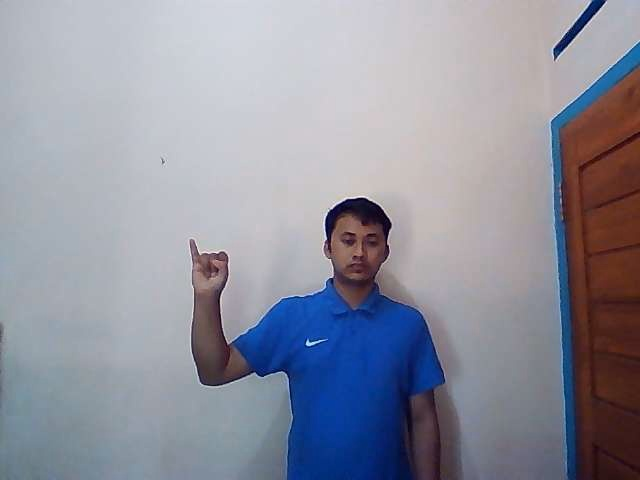I: (188, 236, 230, 294)
